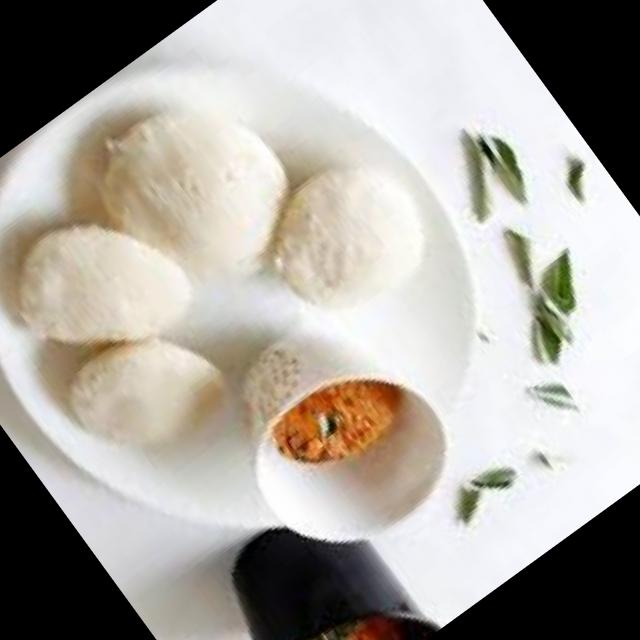idli: (70, 62, 322, 320), (0, 181, 204, 394), (242, 138, 452, 342), (52, 297, 242, 483)
